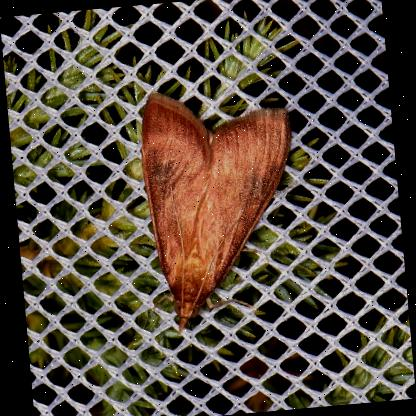Asian Corn Borer Moth: (130, 76, 310, 338)
